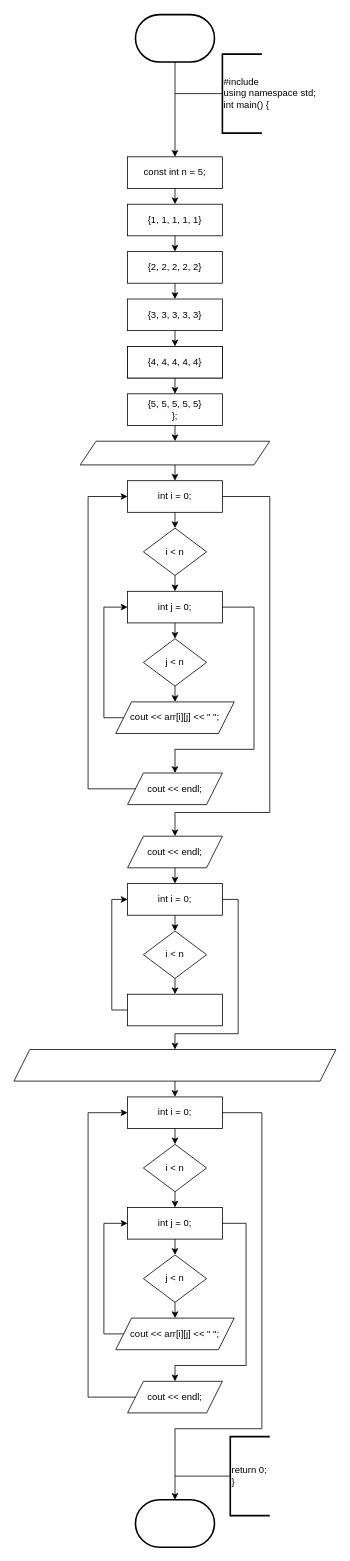
Image size: 350x1561. Some labels were removed from this diagram. Each missing label, with the centre of its shape:
arr[i][n-1-i] = 0;: (174,1009)
cout << "Исходная матрица:" << endl;: (174,452)
cout << "Матрица после обнуления побочной диагонали:" << endl;: (174,1065)
Конец: (174,1523)
Начало: (174,37)
